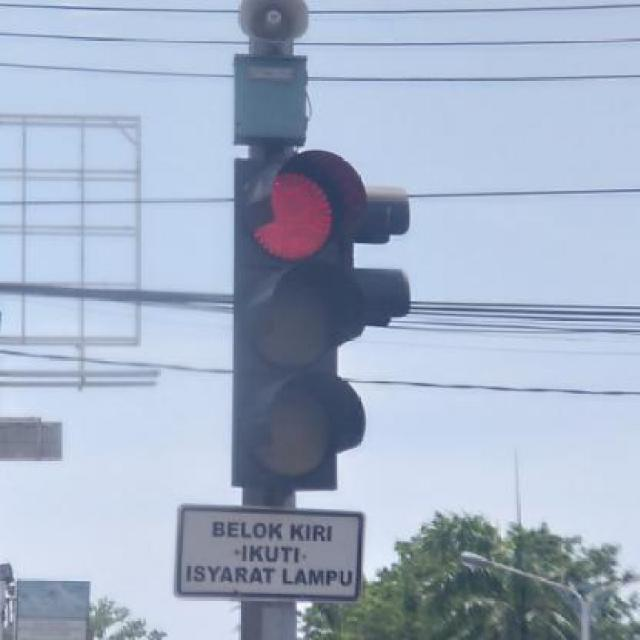traffic light: (234, 157, 362, 492)
